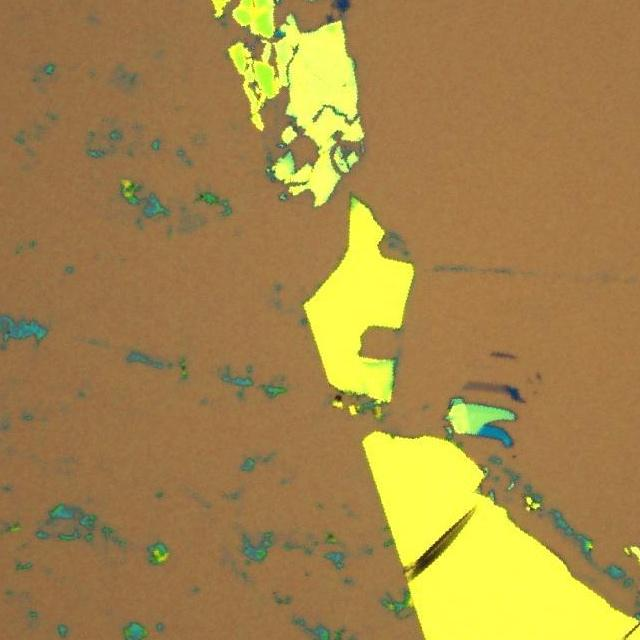monolayer-eWW4: (462, 379, 506, 394)
